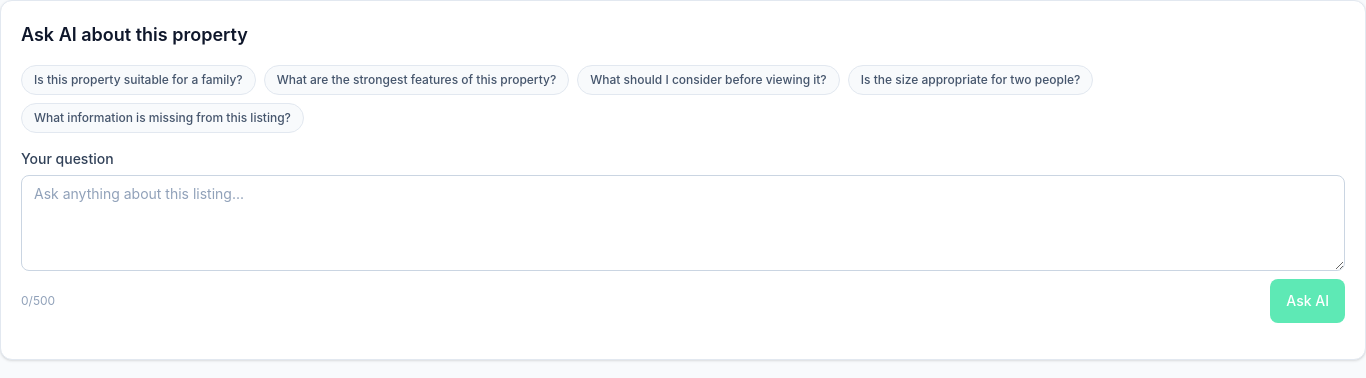
Test: PropertyQA gate › shows the question form with suggested chips when authenticated
The width and height of the screenshot is (1366, 378).
Expected: the text box labelled "Your question" is shown, [21,175,1345,271]
Step 1. Click the button "Is this property suitable for a family?" → (138, 80), box [21,65,256,95]
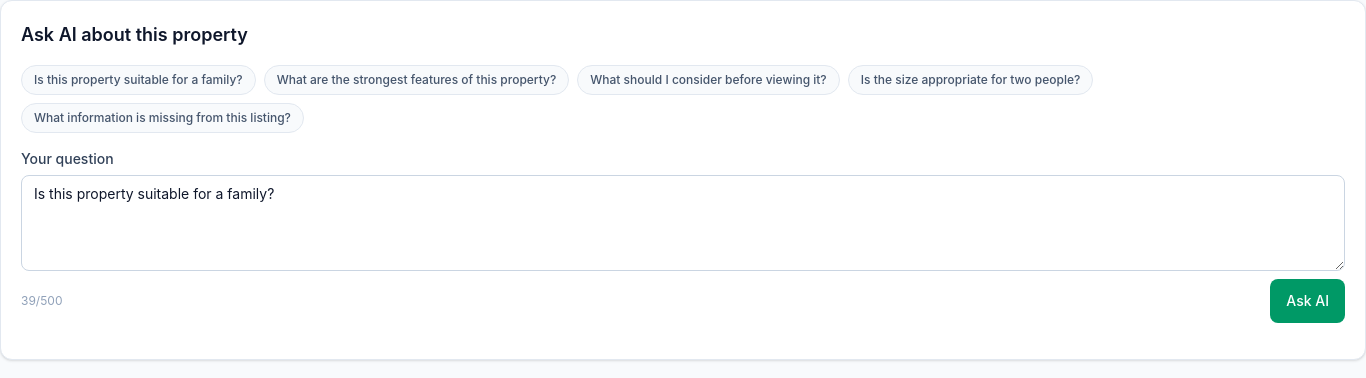
Result: the text box labelled "Your question" holds "Is this property suitable for a family?" at [21,175,1345,271]
